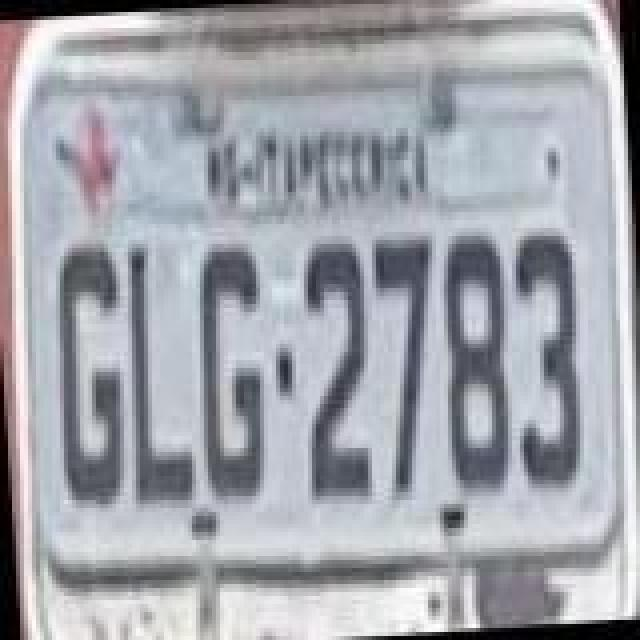2: (290, 228, 382, 508)
3: (504, 224, 592, 488)
7: (366, 224, 450, 496)
8: (434, 224, 518, 496)
G: (44, 232, 132, 504), (190, 236, 274, 508)
L: (120, 240, 200, 512)
